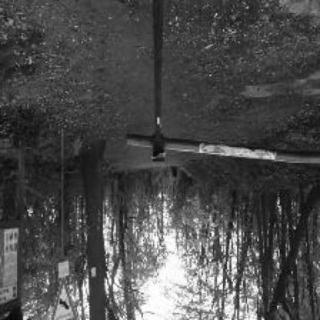other: (120, 123, 319, 184)
